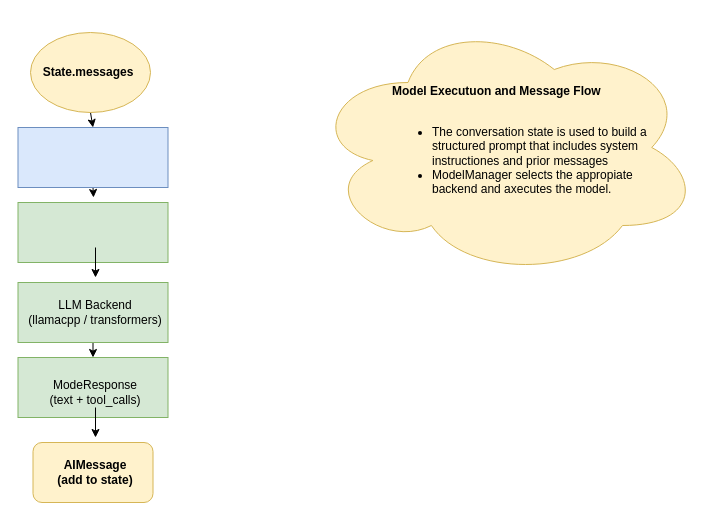
Some shapes in this 718 by 520 pixel diagram are drawn without their labels. Each missing label, with the centre of its shape:
"Build Prompt (system + conversation)" belongs at (x=92, y=157).
"ModelManager (get backen)" belongs at (x=92, y=232).
